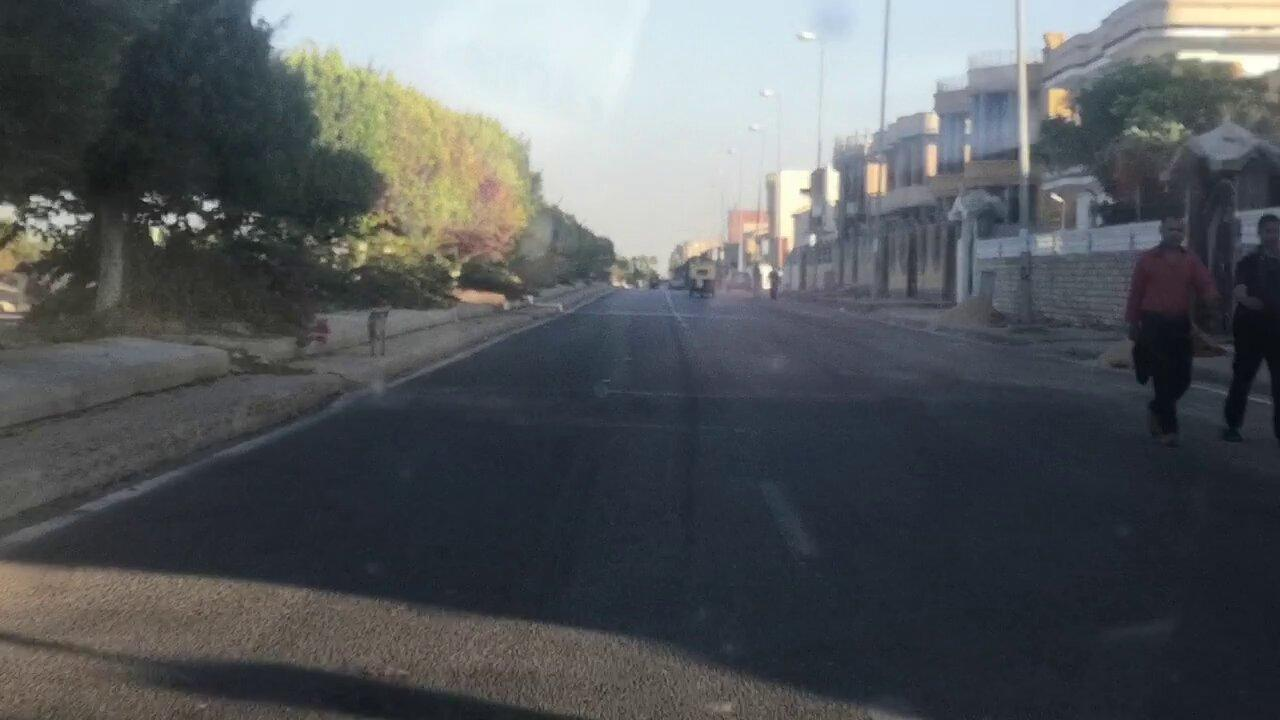Bump: (329, 384, 1138, 426)
